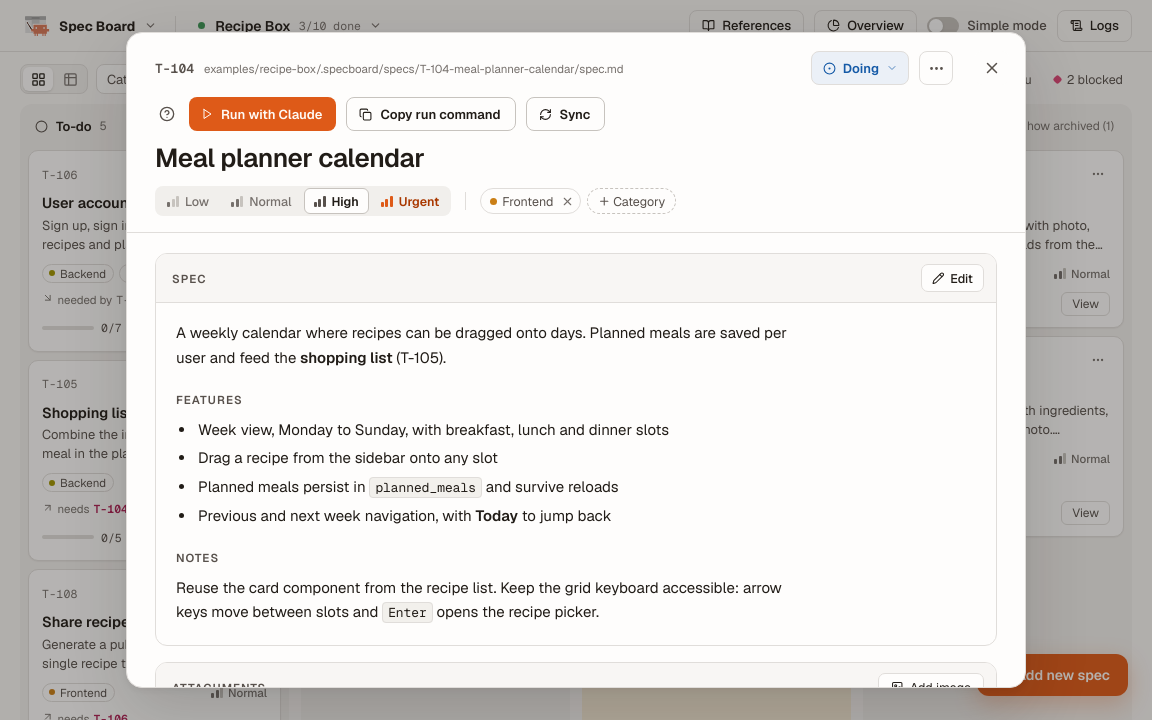
Test: refusals › not-approved
Step 1. Click the button "Run with Claude" → (263, 114), box x1=189 y1=97 x2=336 y2=131
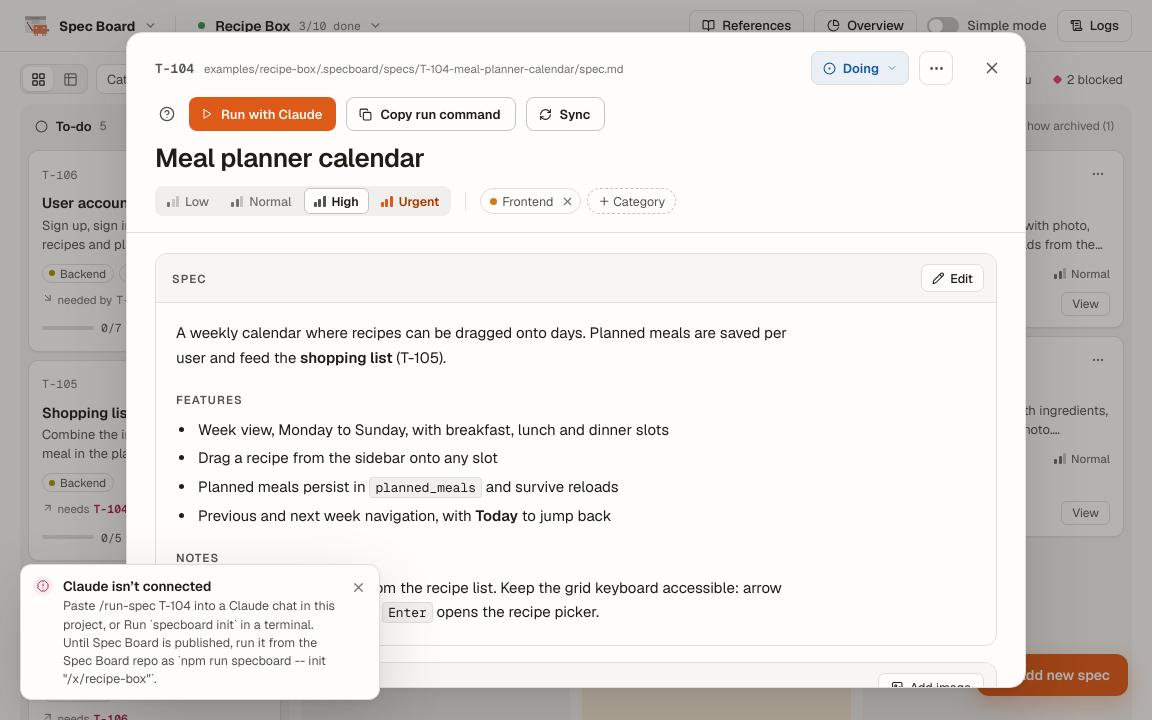
Check: the text "Claude isn’t connected" is shown, box x1=63 y1=577 x2=211 y2=595
